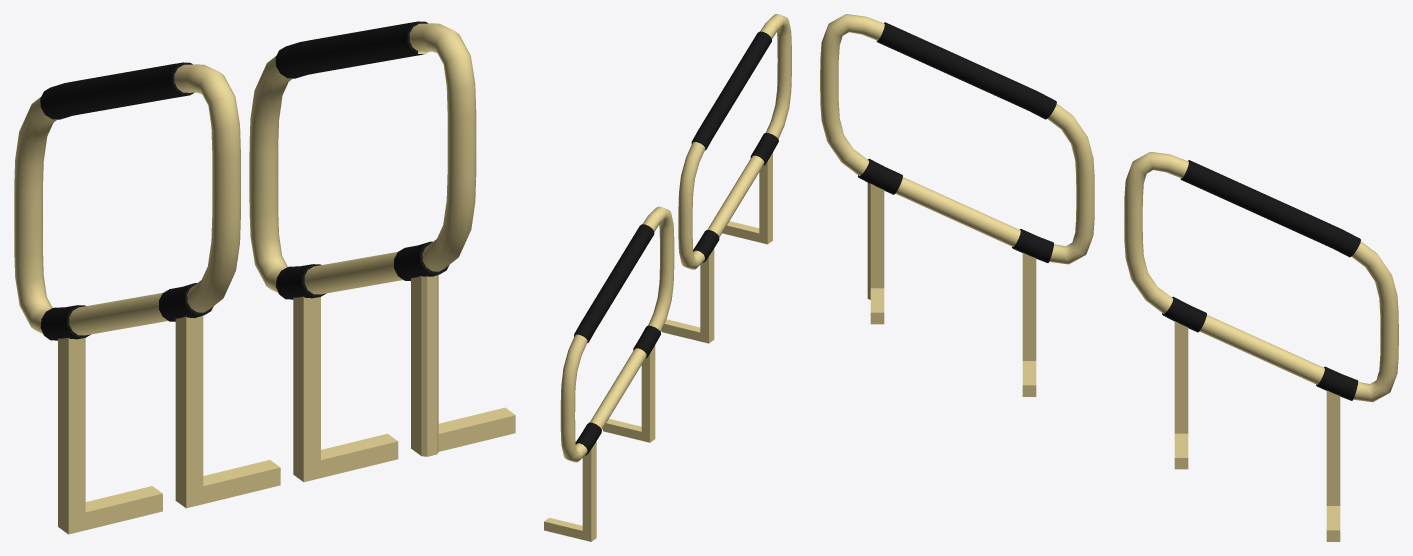
Rendered from Scifi2_StairA_Guard.fbx.
3 renders of one model, left to right at view 1: azimuth 30°, elevation 25°; view 2: azimuth 150°, elevation 25°; view 3: azimuth 270°, elevation 25°, orthographic. The views are drawn at different scales.
Parts seen in each view (by area): view 1: StairGuard; view 2: StairGuard; view 3: StairGuard.
Part boxes in pixels (left/top/right/bottom): StairGuard: left=14, top=21, right=515, bottom=534; StairGuard: left=544, top=14, right=791, bottom=541; StairGuard: left=820, top=14, right=1398, bottom=541.
Bounding box in the file's own units: 46.92 × 345 × 362.
